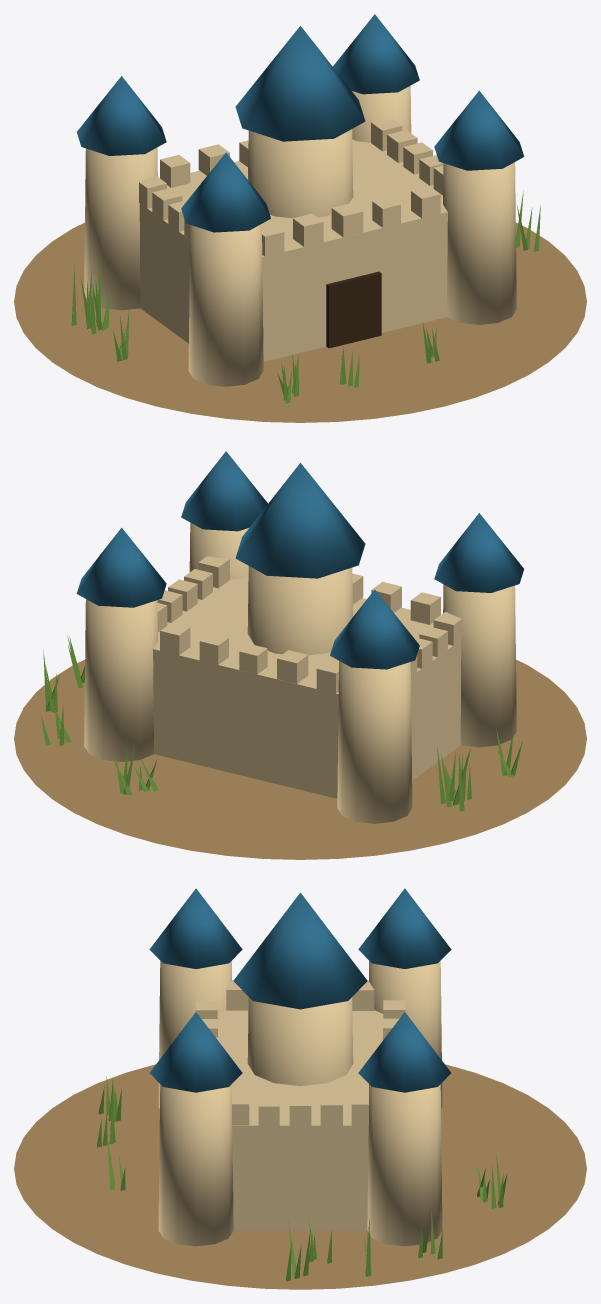
The model's file is improvement_alcazar.fbx.
The picture shows the model from 3 angles, top to bottom: view 1: azimuth 30°, elevation 25°; view 2: azimuth 150°, elevation 25°; view 3: azimuth 270°, elevation 25°; orthographic projection.
Visible parts, largest first — view 1: improvement_alcazar_alc_02, improvement_alcazar_gpatch#a88858r_00, improvement_alcazar_alcr_03, improvement_alcazar_alcg_04, improvement_alcazar_leaf#6a9a3a.011_01; view 2: improvement_alcazar_alc_02, improvement_alcazar_gpatch#a88858r_00, improvement_alcazar_alcr_03, improvement_alcazar_leaf#6a9a3a.011_01; view 3: improvement_alcazar_alc_02, improvement_alcazar_gpatch#a88858r_00, improvement_alcazar_alcr_03, improvement_alcazar_leaf#6a9a3a.011_01.
Part boxes in pixels (x1,y1,x2,y2): improvement_alcazar_alc_02: [84, 85, 516, 386]; improvement_alcazar_gpatch#a88858r_00: [14, 222, 586, 422]; improvement_alcazar_alcr_03: [77, 14, 524, 232]; improvement_alcazar_alcg_04: [326, 271, 381, 348]; improvement_alcazar_leaf#6a9a3a.011_01: [71, 190, 540, 403]; improvement_alcazar_alc_02: [84, 522, 516, 823]; improvement_alcazar_gpatch#a88858r_00: [14, 659, 586, 859]; improvement_alcazar_alcr_03: [76, 451, 523, 669]; improvement_alcazar_leaf#6a9a3a.011_01: [40, 635, 522, 811]; improvement_alcazar_alc_02: [158, 961, 442, 1246]; improvement_alcazar_gpatch#a88858r_00: [14, 1064, 586, 1289]; improvement_alcazar_alcr_03: [149, 888, 451, 1092]; improvement_alcazar_leaf#6a9a3a.011_01: [97, 1076, 507, 1281].
Bounding box in the file's own units: 137 × 73.75 × 137.
